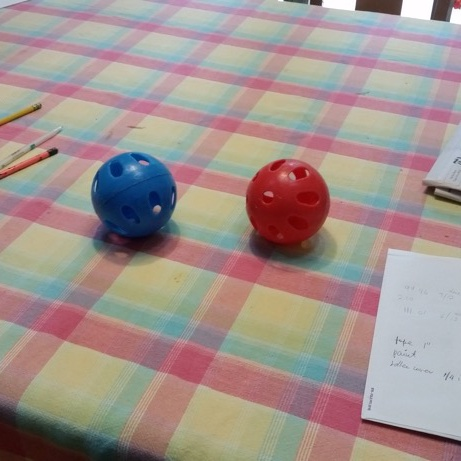blueball: (86, 150, 181, 241)
redball: (242, 152, 336, 247)
